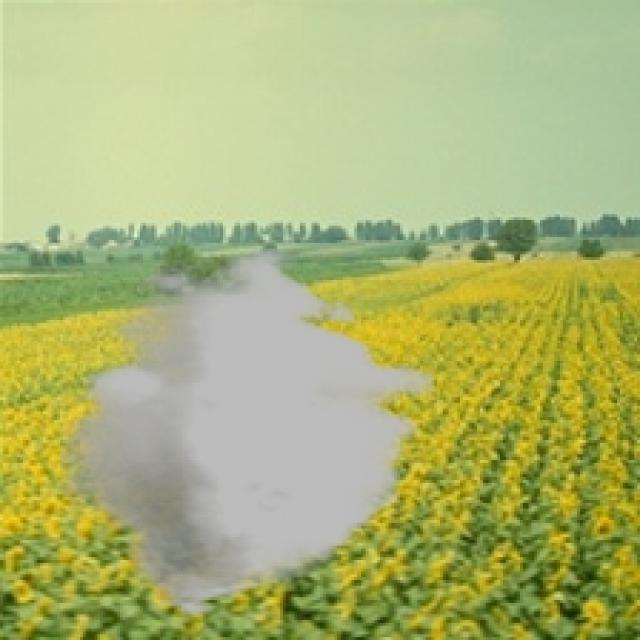smoke: (60, 246, 434, 617)
